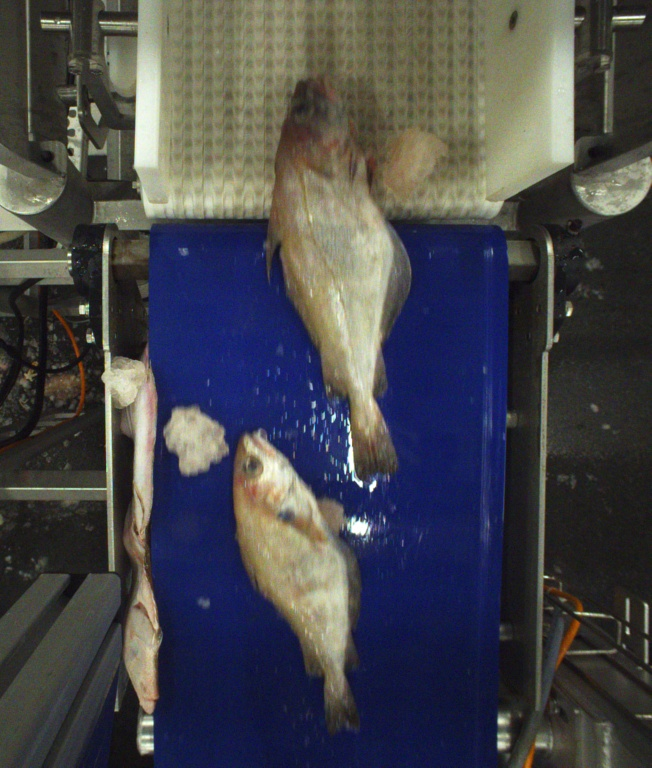BIB: (231, 431, 362, 732)
